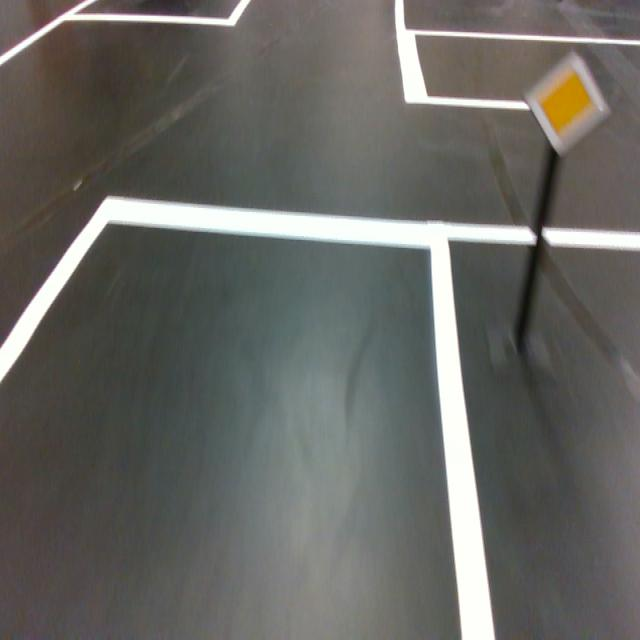priority-sign: (522, 48, 613, 158)
